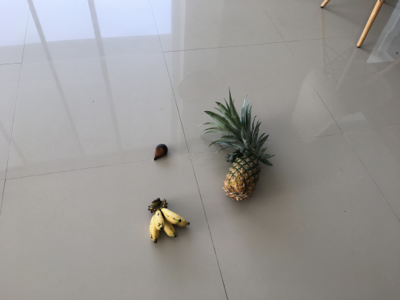banana: (148, 198, 191, 245)
pineapple: (204, 88, 276, 202)
snake fruit: (154, 145, 168, 162)
